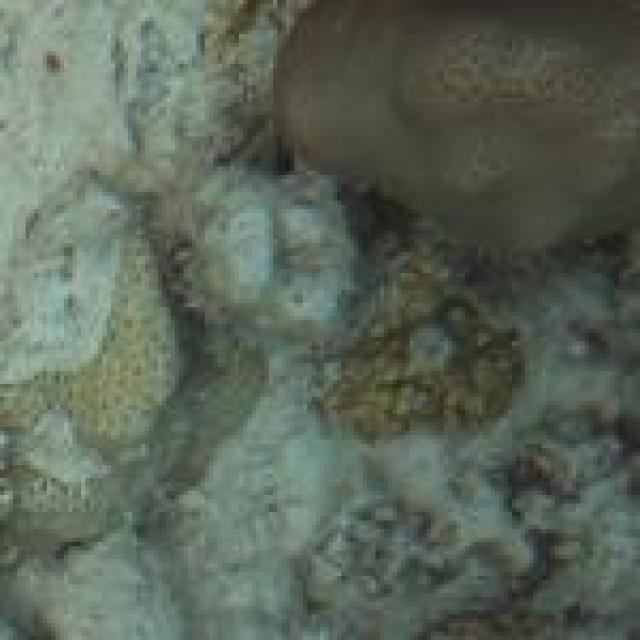Healthy Coral: (250, 0, 640, 278)
